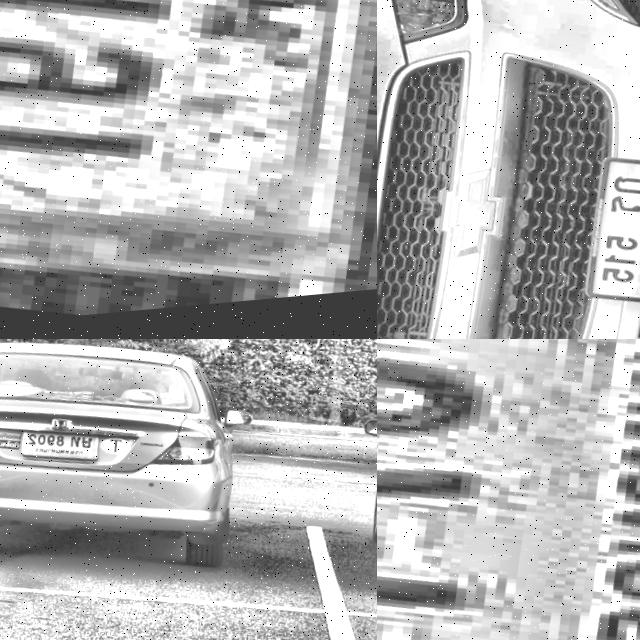license-plate: (0, 0, 377, 339), (377, 339, 640, 640), (570, 158, 640, 326), (231, 565, 282, 628)
